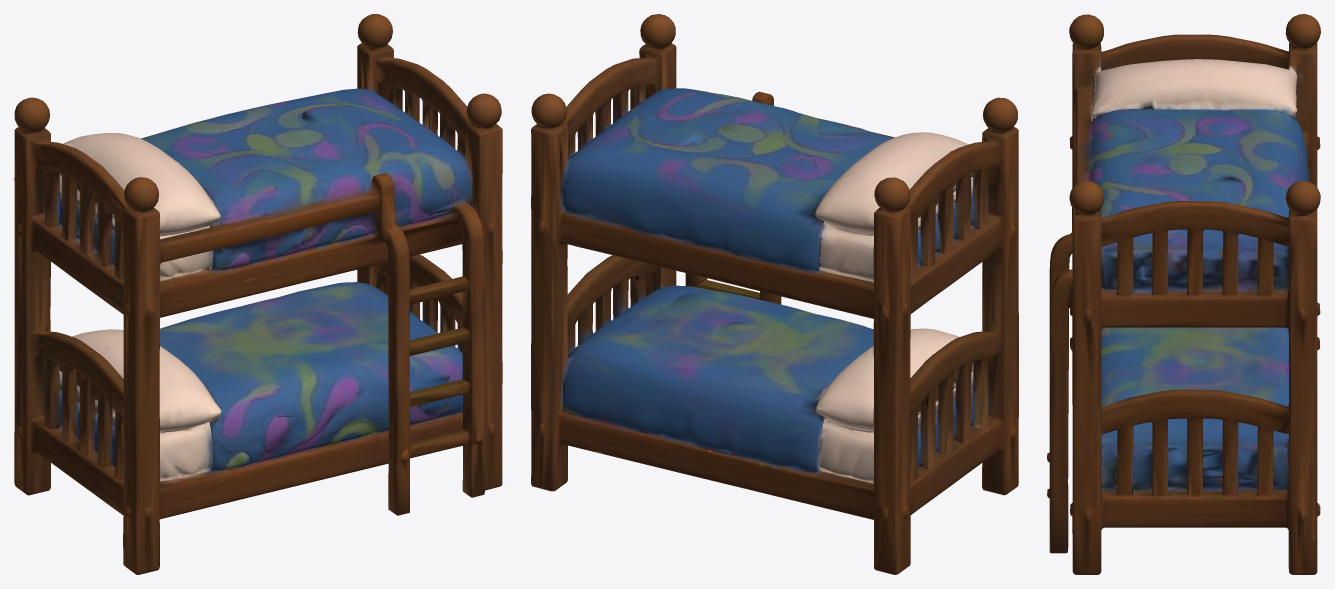
Rendered from bunk_bed.glb.
3 views of the same model, side by side, from view 1: azimuth 30°, elevation 25°; view 2: azimuth 150°, elevation 25°; view 3: azimuth 270°, elevation 25° (orthographic).
Parts seen in each view (by area): view 1: bunk_bed; view 2: bunk_bed; view 3: bunk_bed.
Part boxes in pixels (x1,y1,x2,y2): bunk_bed: (14, 14, 502, 574); bunk_bed: (531, 14, 1018, 574); bunk_bed: (1047, 14, 1320, 574).
Bounding box in the file's own units: 1.91 × 1.9 × 1.22.
Materials: 1 (1 with a texture image).
